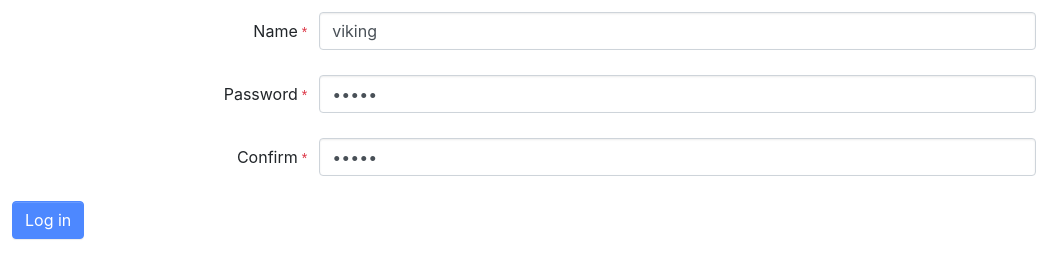
... › submit form with invliad values should show the error message
Clear the field showing "viking": coordinates (678, 31) [319,12,1036,50]
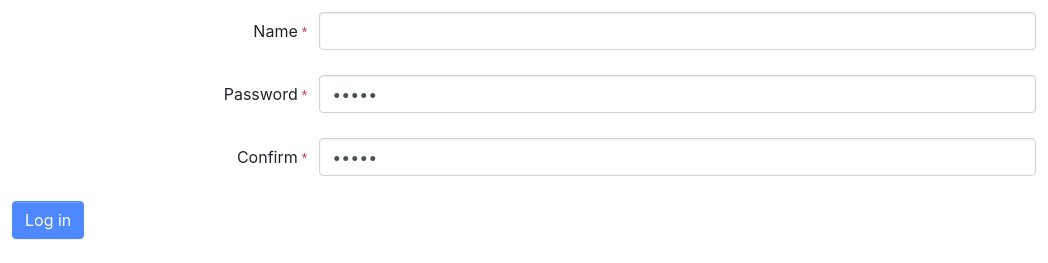
Clear the password field showing "12345" next to "Password": coordinates (678, 94) [319,75,1036,113]
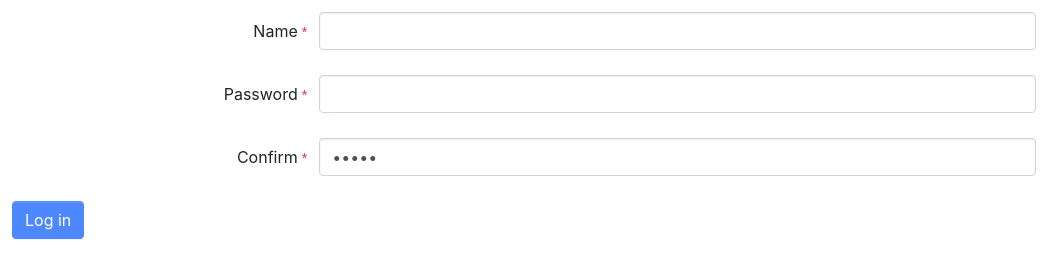
Click the button "Log in": coordinates (48, 220) [12,201,84,239]
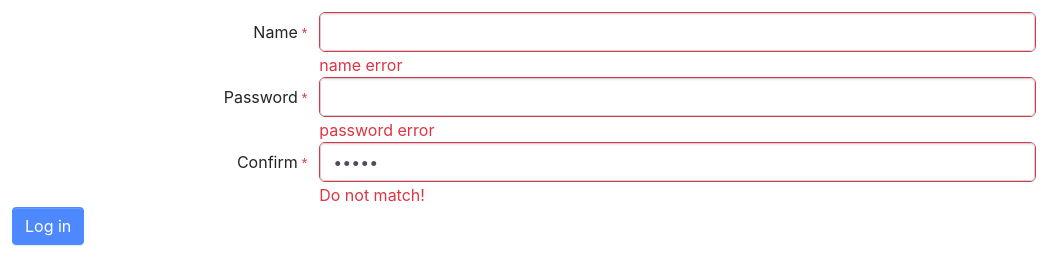
expect the text "name error" is shown: met, box [319,55,402,75]
expect the text "password error" is shown: met, box [319,120,434,140]
